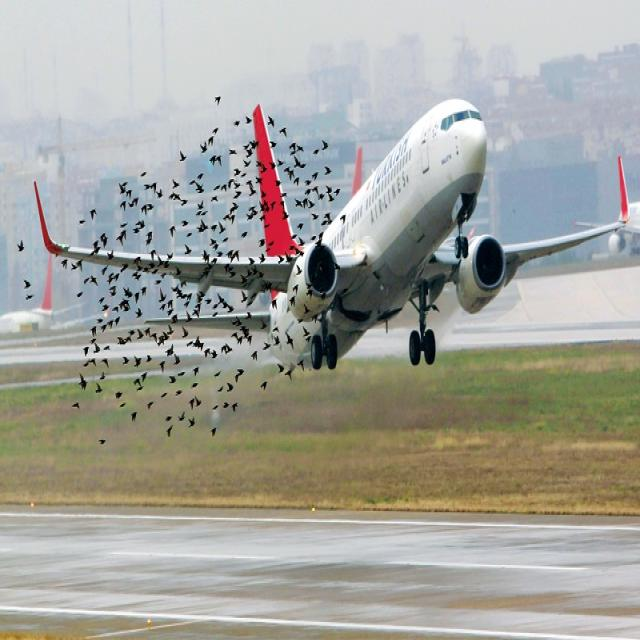bird: (233, 364, 245, 383), (117, 230, 128, 247), (292, 194, 303, 211), (196, 219, 209, 233), (190, 180, 204, 193), (89, 205, 99, 222), (248, 201, 258, 218), (286, 330, 294, 351), (228, 200, 240, 214), (186, 415, 197, 430), (263, 279, 274, 294), (316, 230, 325, 248), (267, 112, 276, 130), (78, 373, 88, 389), (240, 324, 250, 340), (200, 248, 210, 264), (323, 164, 333, 180), (294, 157, 307, 169), (93, 380, 104, 394), (216, 221, 227, 235), (322, 136, 331, 153), (99, 434, 108, 450), (148, 246, 156, 264), (158, 288, 167, 304), (81, 356, 97, 365), (194, 394, 203, 410), (277, 361, 285, 379), (136, 218, 147, 231), (108, 284, 119, 297), (98, 228, 108, 242), (165, 344, 175, 358), (319, 218, 333, 228), (270, 296, 278, 313), (169, 224, 178, 239), (179, 198, 190, 210), (191, 308, 202, 320), (227, 145, 238, 157), (248, 138, 259, 150), (243, 147, 255, 158), (132, 193, 142, 206), (90, 275, 100, 288), (140, 370, 150, 383), (230, 400, 240, 413), (284, 369, 294, 382), (301, 301, 311, 314), (294, 245, 304, 258), (230, 250, 240, 263), (23, 275, 31, 291), (188, 397, 196, 413), (239, 288, 247, 304), (297, 235, 305, 251), (262, 198, 270, 214), (166, 422, 173, 440), (184, 243, 193, 257), (272, 334, 281, 348), (219, 342, 228, 356), (193, 340, 204, 351), (179, 218, 190, 229), (150, 181, 160, 193), (144, 324, 152, 339), (164, 413, 174, 425), (211, 401, 221, 413), (296, 358, 304, 373), (221, 235, 233, 245), (232, 188, 242, 200), (209, 152, 217, 167), (339, 212, 347, 227), (286, 170, 296, 182), (16, 238, 25, 251), (78, 215, 87, 228), (181, 326, 190, 339), (258, 378, 267, 391), (225, 343, 234, 356), (284, 250, 293, 263), (247, 184, 256, 197), (72, 398, 80, 412), (82, 343, 90, 357), (151, 330, 159, 344), (130, 408, 137, 424), (192, 364, 200, 378), (172, 189, 180, 203), (303, 323, 310, 339), (312, 309, 319, 325), (301, 196, 309, 210), (278, 197, 286, 211), (258, 198, 266, 212), (116, 186, 127, 196), (82, 275, 92, 286), (116, 337, 127, 347), (242, 157, 253, 167), (24, 292, 36, 301), (165, 298, 174, 310), (205, 134, 214, 146), (296, 218, 305, 230), (306, 196, 315, 208), (62, 255, 69, 270), (178, 411, 185, 426), (223, 260, 230, 275), (156, 255, 164, 268), (140, 284, 148, 297), (277, 155, 285, 168), (165, 307, 175, 317), (142, 266, 151, 277), (114, 391, 123, 402), (177, 289, 186, 300), (233, 178, 242, 189), (244, 114, 253, 125), (90, 324, 97, 338), (134, 356, 141, 370), (180, 148, 187, 162), (295, 262, 302, 276), (146, 228, 154, 240), (106, 248, 114, 260), (108, 316, 114, 332), (136, 328, 144, 340), (121, 355, 129, 367), (210, 426, 218, 438), (157, 334, 165, 346), (156, 304, 168, 312), (306, 287, 314, 299), (230, 328, 238, 340), (246, 262, 252, 278), (258, 252, 266, 264), (219, 181, 227, 193), (334, 184, 342, 196), (259, 187, 267, 199), (102, 236, 109, 249), (120, 198, 127, 211), (158, 360, 165, 373), (174, 354, 181, 367), (168, 190, 175, 203), (236, 333, 243, 346), (133, 225, 142, 235), (133, 255, 143, 264), (145, 400, 154, 410), (171, 179, 181, 188), (213, 94, 222, 104), (262, 340, 271, 350), (258, 235, 264, 250), (233, 166, 242, 176), (317, 192, 326, 202), (119, 264, 130, 272), (159, 270, 167, 281), (118, 299, 129, 307), (99, 371, 107, 382), (163, 331, 171, 342), (234, 314, 242, 325), (216, 291, 224, 302), (221, 299, 229, 310), (216, 248, 224, 259), (200, 142, 208, 153), (212, 125, 220, 136), (78, 260, 85, 272), (72, 260, 78, 274), (126, 186, 132, 200), (144, 180, 151, 192), (135, 307, 142, 319), (240, 275, 247, 287), (196, 292, 203, 304), (216, 154, 223, 166), (280, 126, 287, 138), (298, 142, 305, 154), (271, 198, 277, 212), (260, 211, 267, 223), (139, 171, 148, 180), (120, 220, 129, 229), (168, 375, 177, 384), (266, 238, 275, 247), (208, 237, 217, 246), (93, 238, 101, 248), (108, 270, 113, 286), (166, 251, 174, 261), (161, 260, 171, 268), (100, 324, 108, 334), (101, 358, 109, 368), (103, 342, 111, 352), (124, 334, 132, 344), (145, 354, 153, 364), (191, 382, 199, 392), (213, 370, 223, 378), (170, 284, 180, 292), (182, 299, 190, 309), (87, 250, 97, 258), (334, 261, 342, 271), (245, 210, 253, 220), (255, 158, 263, 168), (268, 163, 278, 171), (325, 186, 333, 196), (327, 192, 335, 202), (312, 211, 320, 221), (274, 178, 282, 188), (157, 187, 163, 200), (204, 346, 210, 359), (120, 306, 131, 313), (115, 316, 122, 327), (127, 329, 138, 336), (227, 382, 234, 393), (251, 350, 258, 361), (251, 265, 258, 276), (220, 213, 231, 220), (282, 211, 289, 222), (148, 203, 156, 212), (101, 304, 110, 312), (122, 287, 130, 296), (134, 292, 140, 304), (160, 392, 168, 401), (220, 402, 228, 411), (211, 349, 217, 361), (168, 323, 174, 335), (180, 280, 188, 289), (172, 313, 178, 325), (310, 234, 318, 243), (292, 282, 298, 294), (247, 334, 253, 346), (258, 270, 266, 279), (246, 309, 252, 321), (204, 297, 213, 305), (211, 255, 219, 264), (212, 183, 221, 191), (246, 179, 255, 187), (262, 162, 268, 174), (292, 176, 300, 185), (302, 176, 310, 185), (304, 187, 312, 196), (187, 292, 194, 302), (295, 317, 305, 324), (198, 198, 203, 212), (290, 141, 297, 151), (99, 295, 105, 306), (137, 382, 143, 393), (174, 265, 180, 276), (240, 230, 246, 241), (313, 186, 319, 197), (103, 263, 108, 276), (136, 264, 144, 272), (148, 262, 156, 270), (212, 302, 220, 310), (194, 302, 202, 310), (201, 267, 209, 275), (288, 232, 296, 240), (97, 316, 104, 325), (89, 338, 98, 345), (117, 402, 126, 409), (184, 339, 193, 346), (211, 223, 218, 232), (324, 210, 331, 219), (313, 171, 320, 180), (127, 289, 133, 299), (134, 376, 140, 386), (186, 312, 192, 322), (228, 302, 234, 312), (288, 242, 294, 252), (227, 248, 233, 258), (228, 175, 232, 190), (231, 212, 236, 224), (284, 164, 290, 174), (261, 223, 271, 229), (151, 268, 158, 276), (93, 345, 100, 353), (217, 386, 224, 394), (186, 232, 193, 240), (291, 293, 295, 307), (211, 310, 219, 317), (228, 270, 235, 278), (201, 208, 208, 216), (232, 120, 240, 127), (314, 148, 321, 156), (250, 256, 255, 267), (114, 273, 120, 282), (134, 273, 140, 282), (240, 172, 249, 178), (270, 140, 276, 149), (142, 203, 146, 216), (177, 388, 182, 398), (261, 319, 266, 329), (279, 189, 289, 194), (272, 326, 279, 333), (195, 210, 202, 217), (211, 196, 218, 203), (257, 176, 264, 183), (146, 239, 152, 247), (154, 280, 162, 286), (78, 292, 84, 300), (322, 291, 325, 307), (264, 247, 272, 253), (212, 242, 218, 250), (196, 173, 204, 179), (307, 336, 312, 345), (279, 255, 284, 264), (128, 200, 134, 207), (131, 271, 138, 277), (242, 143, 248, 150), (113, 306, 119, 312), (178, 372, 184, 378), (306, 282, 312, 288), (200, 292, 206, 298), (208, 264, 212, 270)
